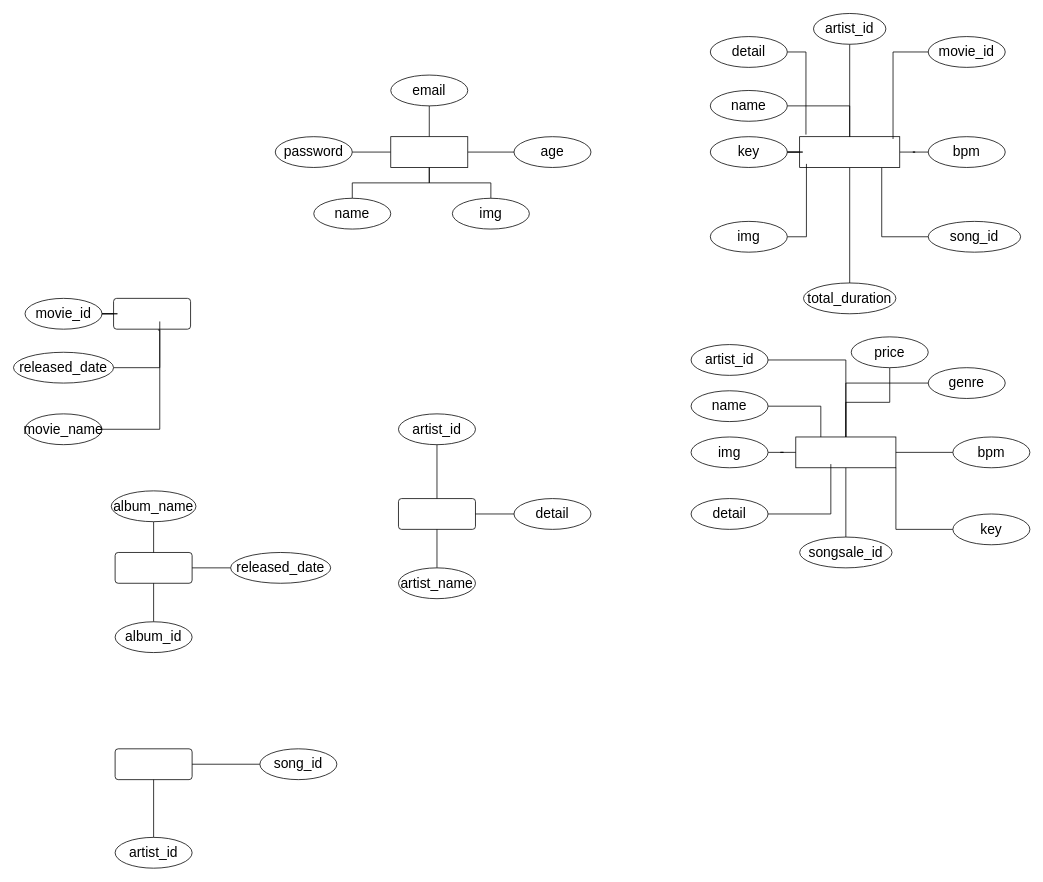
Some shapes in this 1043 by 882 pixel diagram are drawn without their labels. The shapes that lost their labels are listed below. From the top down, each one's centre as x and y in pixels, then its label:
At [429,151]: "user".
At [849,151]: "streamingsong".
At [152,313]: "Movies".
At [845,452]: "song_sale".
At [436,513]: "artist".
At [153,567]: "album".
At [153,764]: "liked track".
